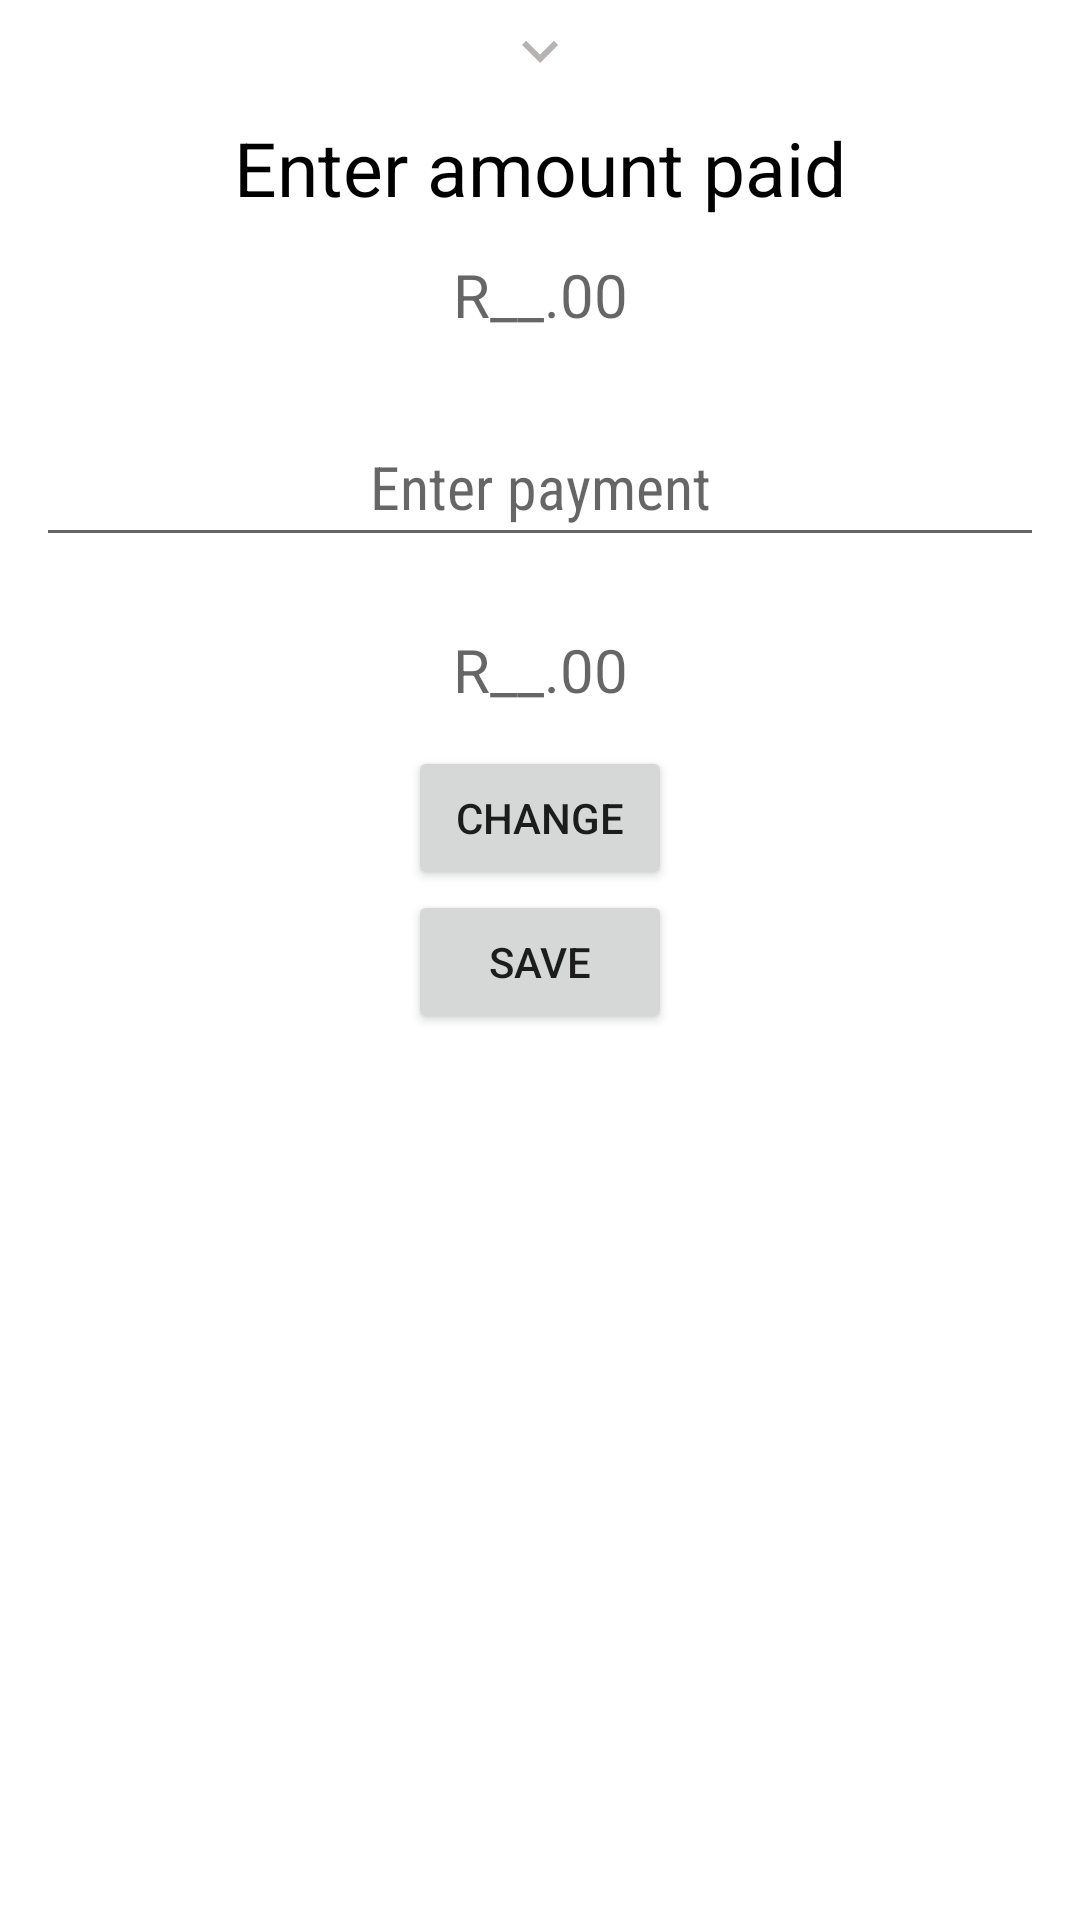

Icons on this 1080w x 1920h Android screen, each with its box as bbox=(x1, y1, x2, y2):
keyboard arrow down: bbox=(522, 41, 558, 63)
